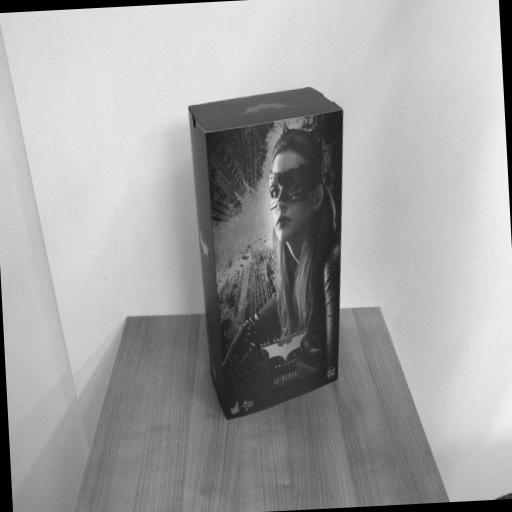catwoman: (188, 84, 358, 422)
